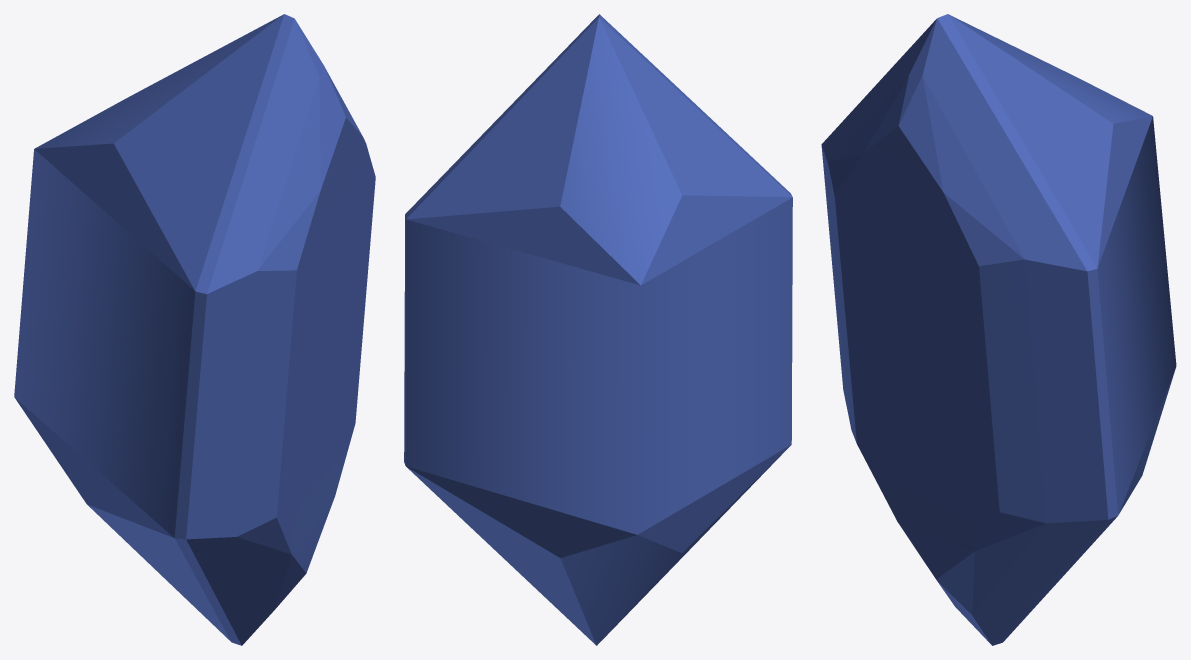
File: BR3_8shapes_Hex_Classic_Stone.001 2.glb
3 renders of one model, left to right at view 1: azimuth 30°, elevation 25°; view 2: azimuth 150°, elevation 25°; view 3: azimuth 270°, elevation 25°, orthographic. The views are drawn at different scales.
Visible parts, largest first — view 1: BR3_8shapes_Hex_Classic_Stone.001; view 2: BR3_8shapes_Hex_Classic_Stone.001; view 3: BR3_8shapes_Hex_Classic_Stone.001.
Part boxes in pixels (x1,y1,x2,y2): BR3_8shapes_Hex_Classic_Stone.001: [14, 14, 375, 645]; BR3_8shapes_Hex_Classic_Stone.001: [404, 14, 792, 645]; BR3_8shapes_Hex_Classic_Stone.001: [821, 14, 1176, 645].
Bounding box in the file's own units: 0.3285 × 0.6878 × 0.3448.
